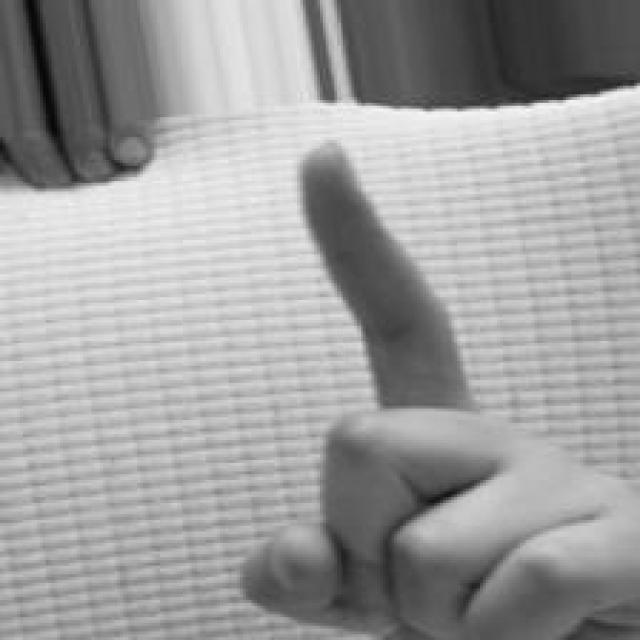I: (235, 138, 640, 639)
